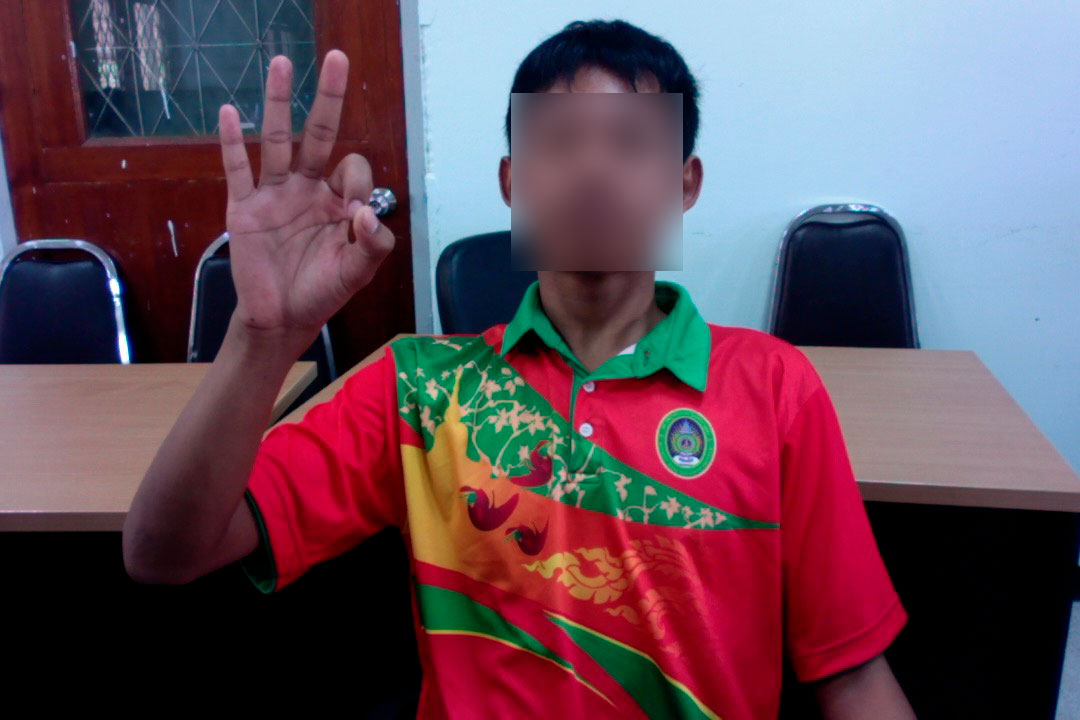for: (207, 34, 402, 337)
